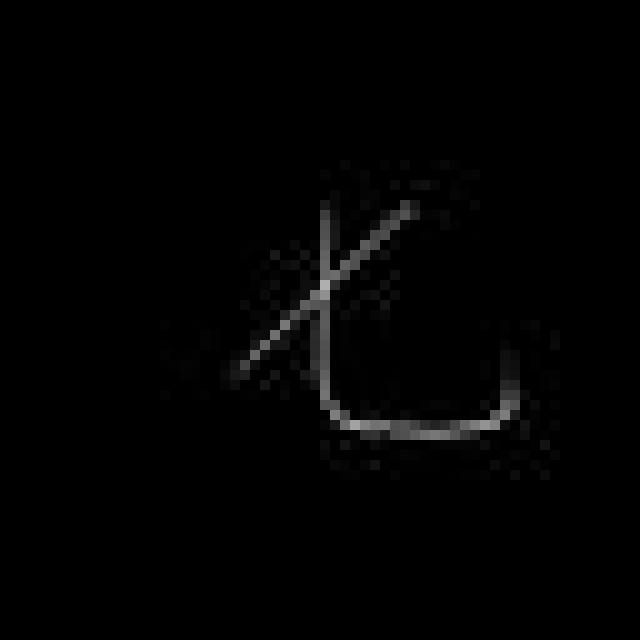7 -seven-: (231, 188, 531, 443)
